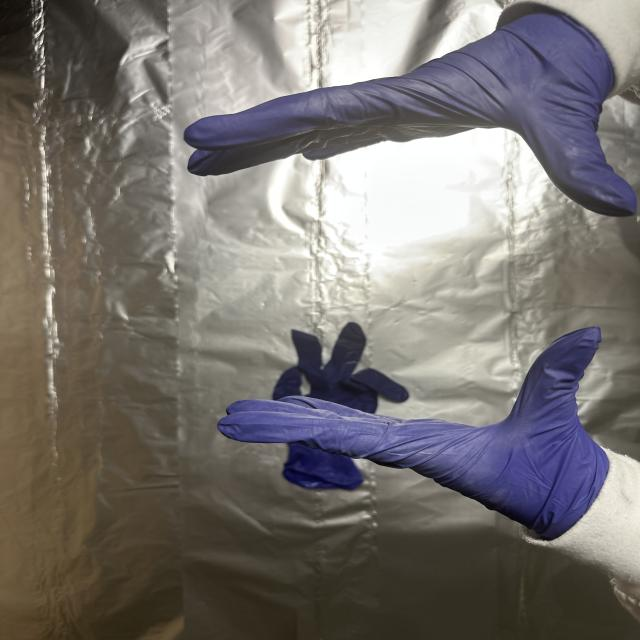gloves_contaminated: (185, 10, 636, 216), (218, 328, 610, 540)
